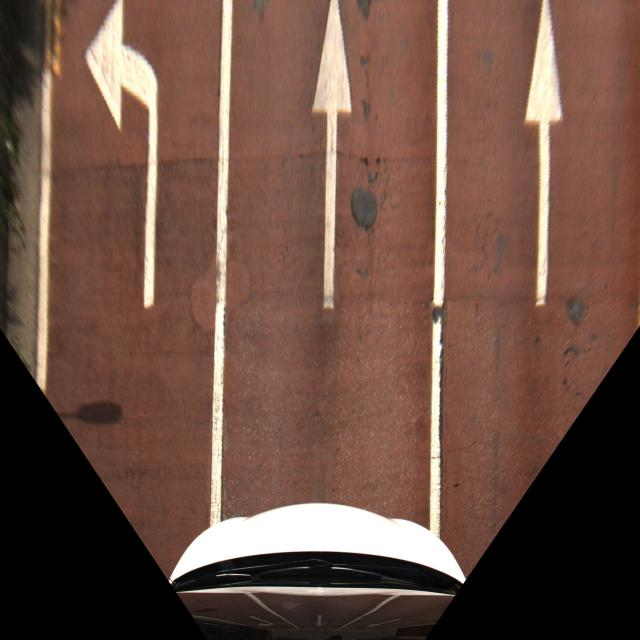forward: (426, 0, 640, 337), (218, 0, 442, 314)
left: (38, 3, 240, 326)
